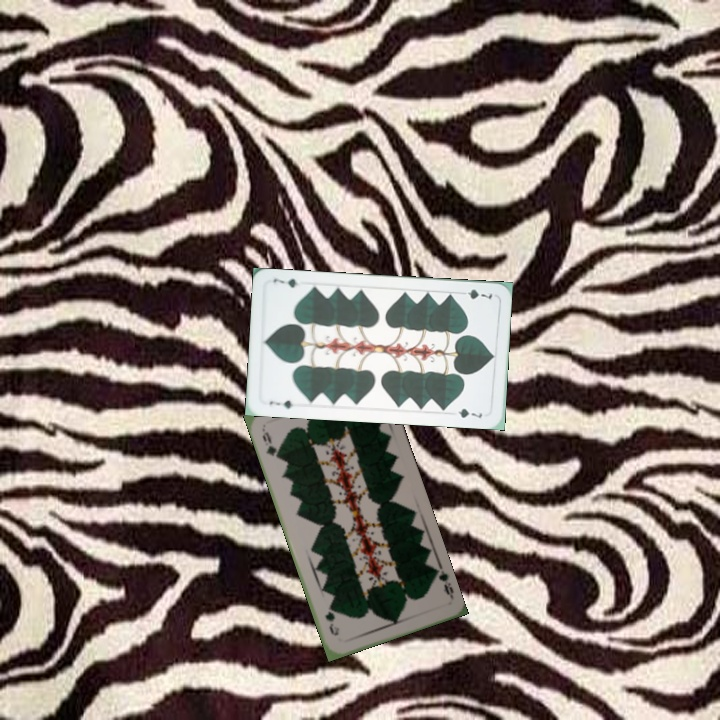G7: (455, 285, 495, 302), (265, 396, 296, 411)
G9: (430, 563, 456, 602), (258, 425, 282, 462)
